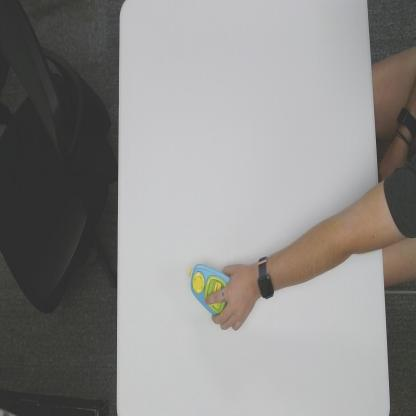Arm: (282, 200, 400, 289)
Boat: (189, 264, 231, 316)
Hand: (210, 250, 260, 335)
